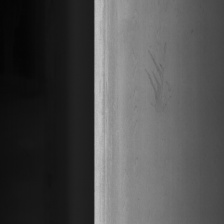water_spot: (142, 39, 175, 120)
